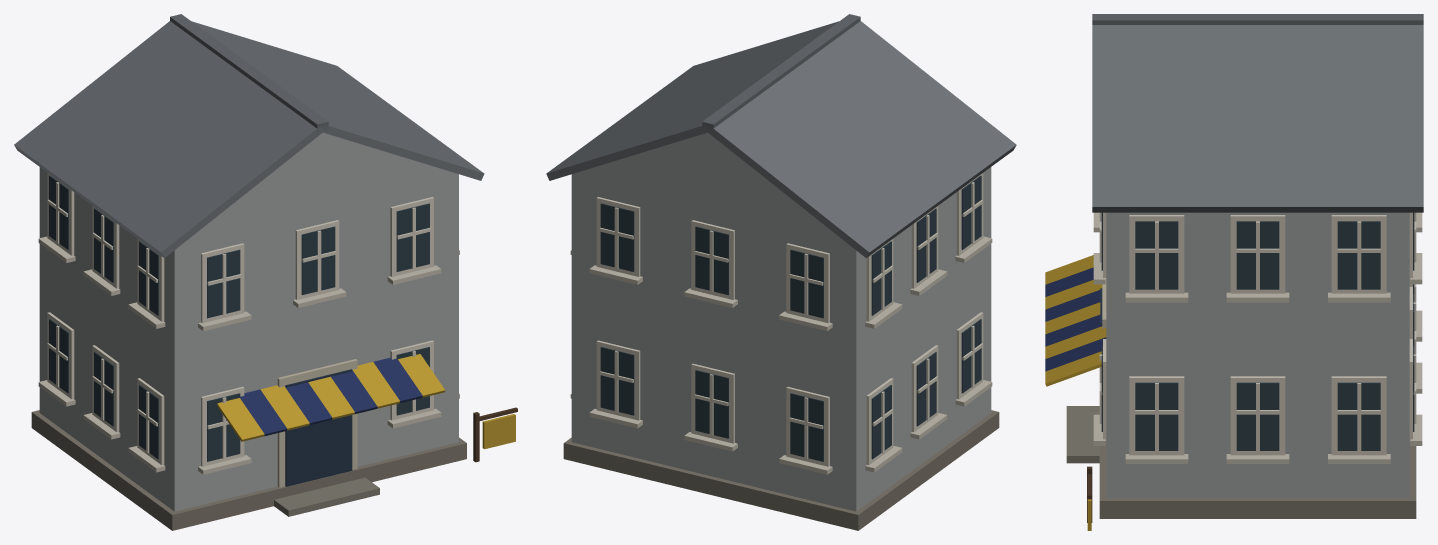
Rendered from procedural_jeweler@6.glb.
3 renders of one model, left to right at view 1: azimuth 30°, elevation 25°; view 2: azimuth 150°, elevation 25°; view 3: azimuth 270°, elevation 25°, orthographic. The views are drawn at different scales.
Visible parts, largest first — view 1: part_0; view 2: part_0; view 3: part_0.
Part boxes in pixels (<box>): part_0: <box>14,14,517,530</box>; part_0: <box>546,14,1016,530</box>; part_0: <box>1045,14,1423,530</box>.
Bounding box in the file's own units: 6.98 × 7.04 × 5.73.
